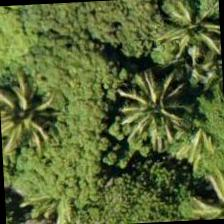Kelapa_Sawit: (92, 58, 187, 153), (136, 0, 223, 88), (0, 75, 56, 169)
